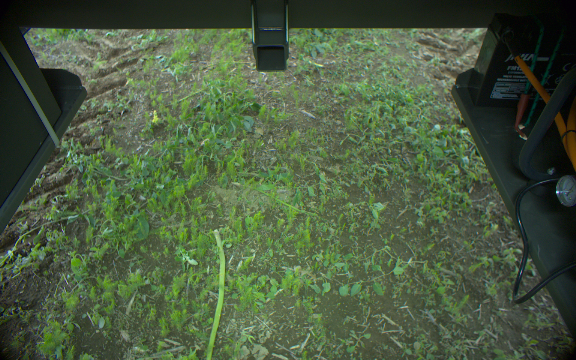aspa: (203, 227, 227, 360)
